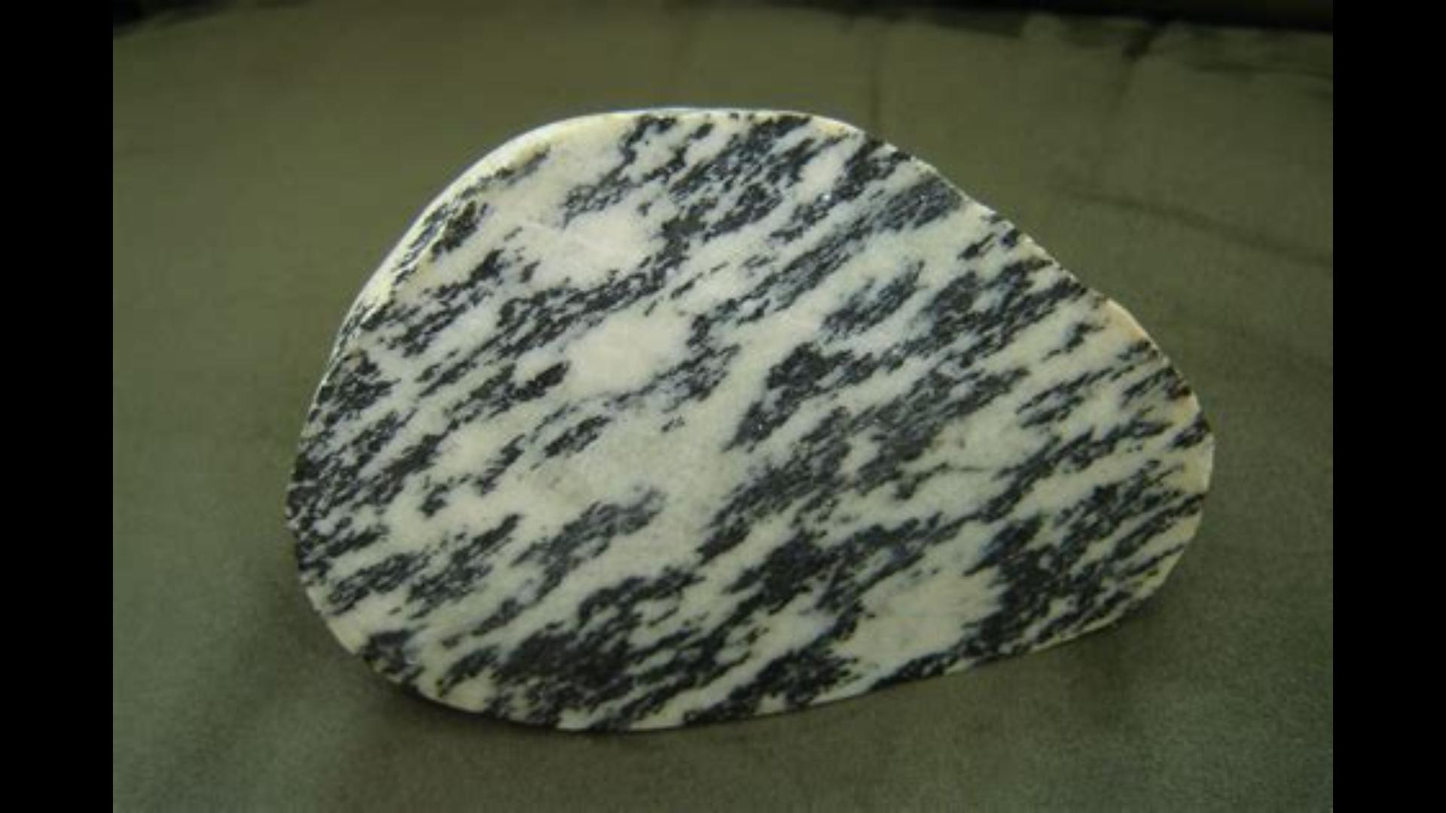rock: (288, 111, 1209, 726)
